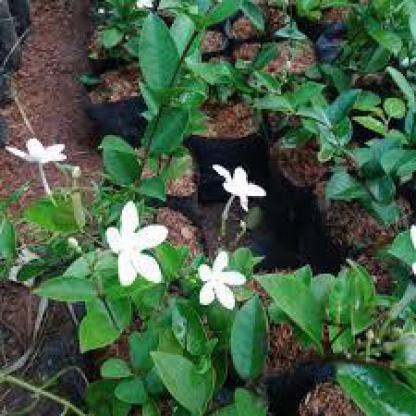Melati: (94, 193, 157, 275), (11, 125, 83, 184), (214, 142, 269, 206), (201, 251, 240, 308)
